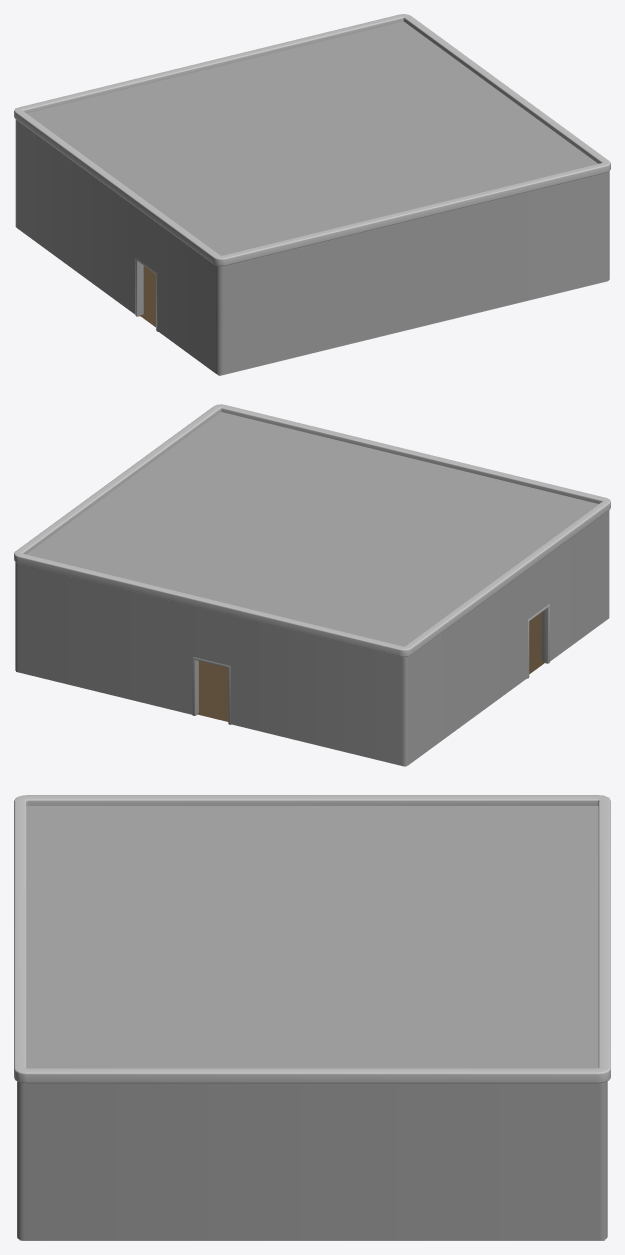
Rendered from SM_room_05.fbx.
3 renders of one model, top to bottom at view 1: azimuth 30°, elevation 25°; view 2: azimuth 150°, elevation 25°; view 3: azimuth 270°, elevation 25°, orthographic. The views are drawn at different scales.
Parts seen in each view (by area): view 1: Object078; view 2: Object078; view 3: Object078.
Boxes of the visible parts, bbox=[...] form: Object078: bbox=[14, 14, 610, 375]; Object078: bbox=[14, 404, 610, 766]; Object078: bbox=[14, 795, 610, 1240].
Bounding box in the file's own units: 590 × 168 × 534.
